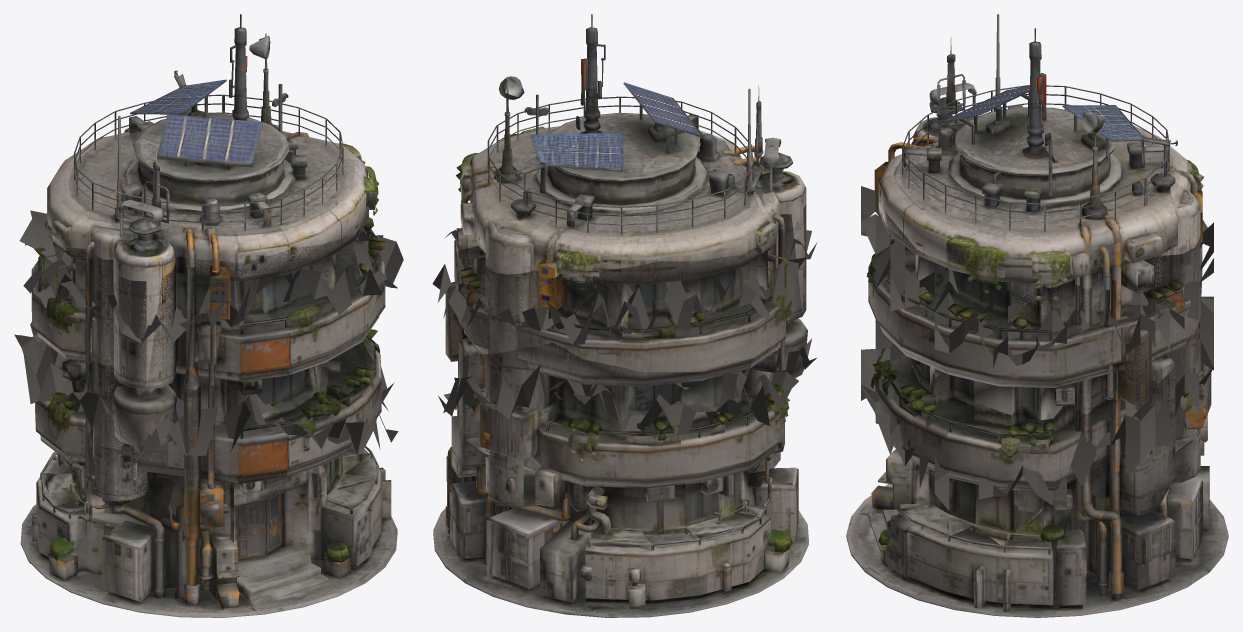
File: toa_tron.glb
3 renders of one model, left to right at view 1: azimuth 30°, elevation 25°; view 2: azimuth 150°, elevation 25°; view 3: azimuth 270°, elevation 25°, orthographic.
Parts seen in each view (by area): view 1: do_1, nguyen, do_2; view 2: do_1, nguyen, do_2; view 3: do_1, nguyen, do_2.
Part boxes in pixels (x1,y1,x2,y2): do_1: [14, 322, 398, 617]; nguyen: [47, 14, 378, 499]; do_2: [19, 203, 403, 537]; do_1: [433, 318, 816, 617]; nguyen: [456, 14, 806, 474]; do_2: [432, 164, 816, 474]; do_1: [846, 269, 1228, 617]; nguyen: [878, 14, 1203, 512]; do_2: [861, 161, 1213, 513].
Size of the model in its own units: 29.83 by 45 by 29.79.
Materials: 2 (1 with a texture image).
